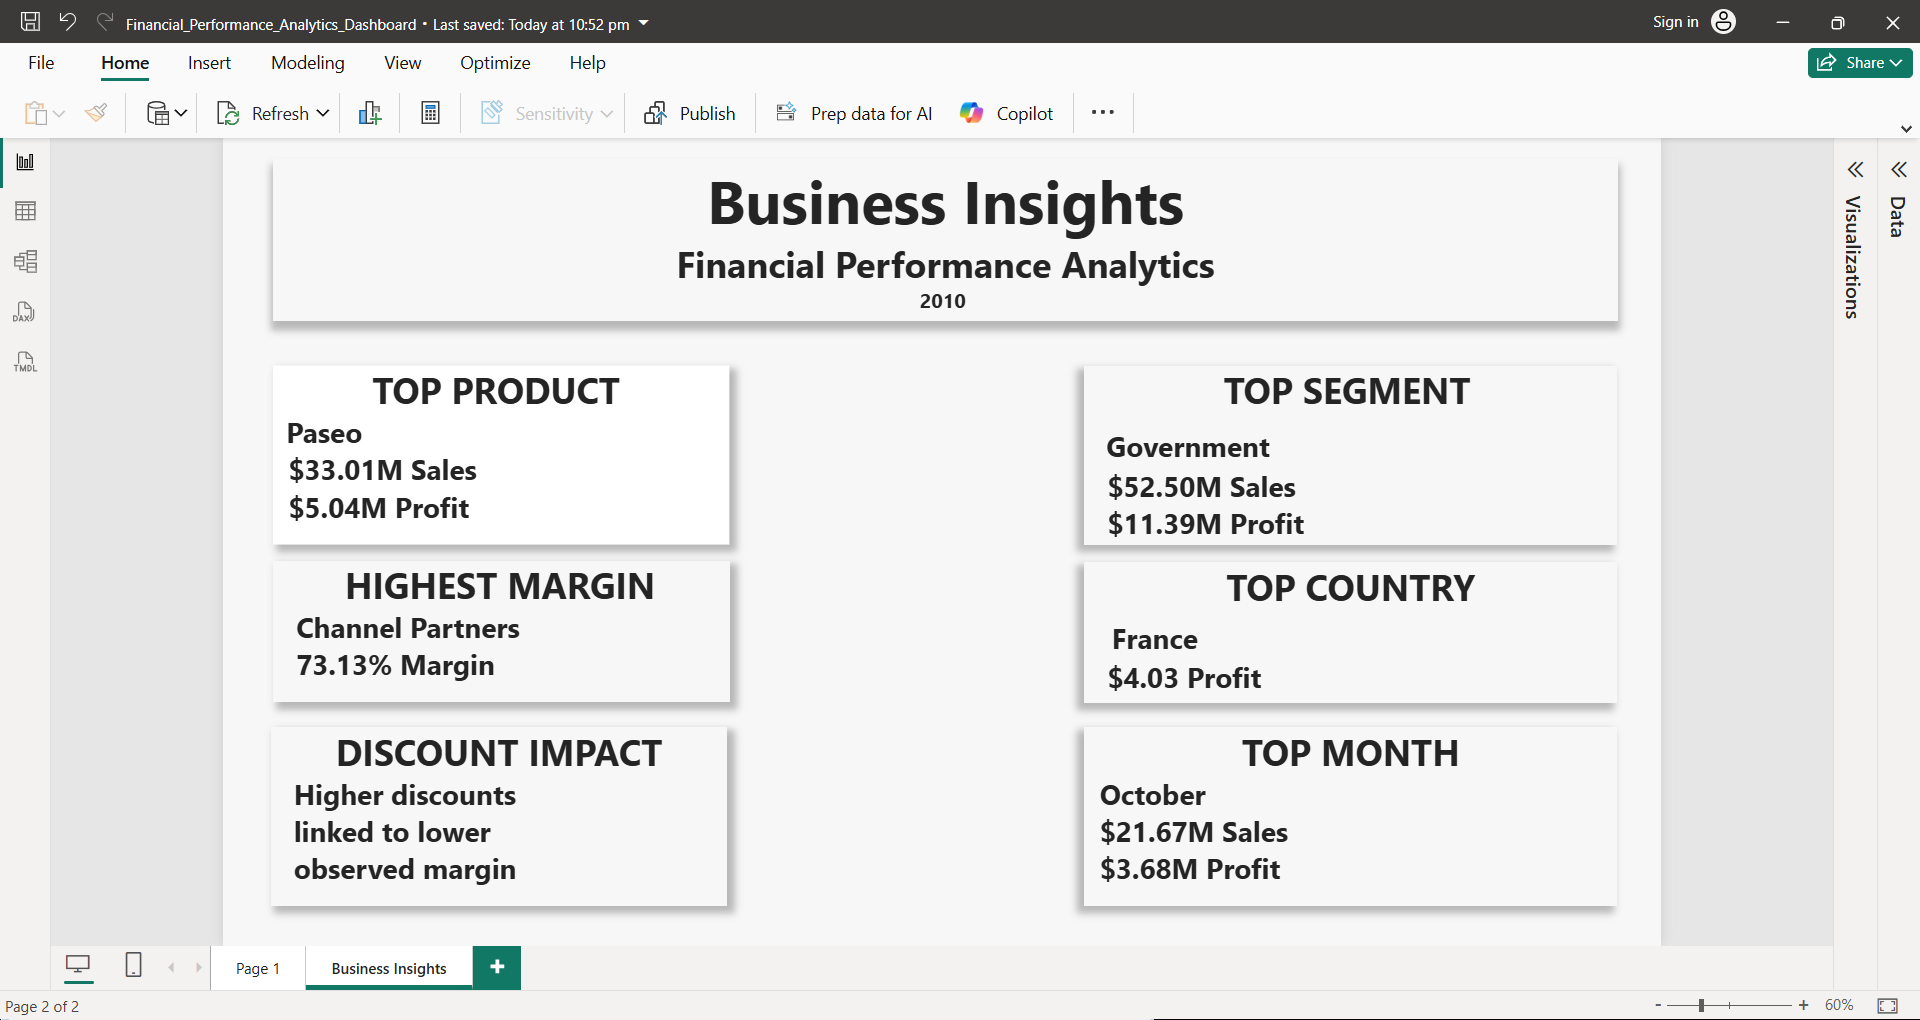

What the dashboard file says about the page in this screenshot:
{"tool":"powerbi","page":{"name":"Business Insights","canvas":[1920,1080],"ordinal":1},"visuals":[{"type":"textbox","box":[67.2,29.2,1796.7,216.2],"z":0},{"type":"textbox","box":[67.2,303.8,609.6,239],"z":1000},{"type":"textbox","box":[67.2,563.9,610.6,189.9],"z":1001},{"type":"textbox","box":[1151.1,303.8,712.4,239],"z":1002},{"type":"textbox","box":[1151.1,566.8,712.4,188.8],"z":1003},{"type":"textbox","box":[64.3,785.9,610.6,239.6],"z":1004},{"type":"textbox","box":[1151.1,785.9,712.4,239],"z":1005}]}

Visuals, with their boxes on the page's 1920x1080 design canvas (x1, y1, x2, y2). These are canvas units, not pixel positions in the 1920x1020 screenshot, which may show the page scaled, cropped or inside an application window:
textbox: bbox=[67, 29, 1864, 245]
textbox: bbox=[67, 304, 677, 543]
textbox: bbox=[67, 564, 678, 754]
textbox: bbox=[1151, 304, 1864, 543]
textbox: bbox=[1151, 567, 1864, 756]
textbox: bbox=[64, 786, 675, 1026]
textbox: bbox=[1151, 786, 1864, 1025]
